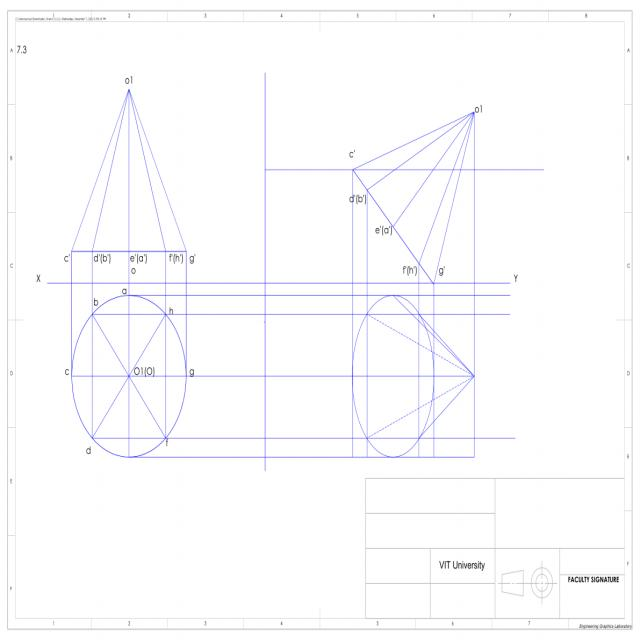Drawings: (32, 66, 525, 473)
